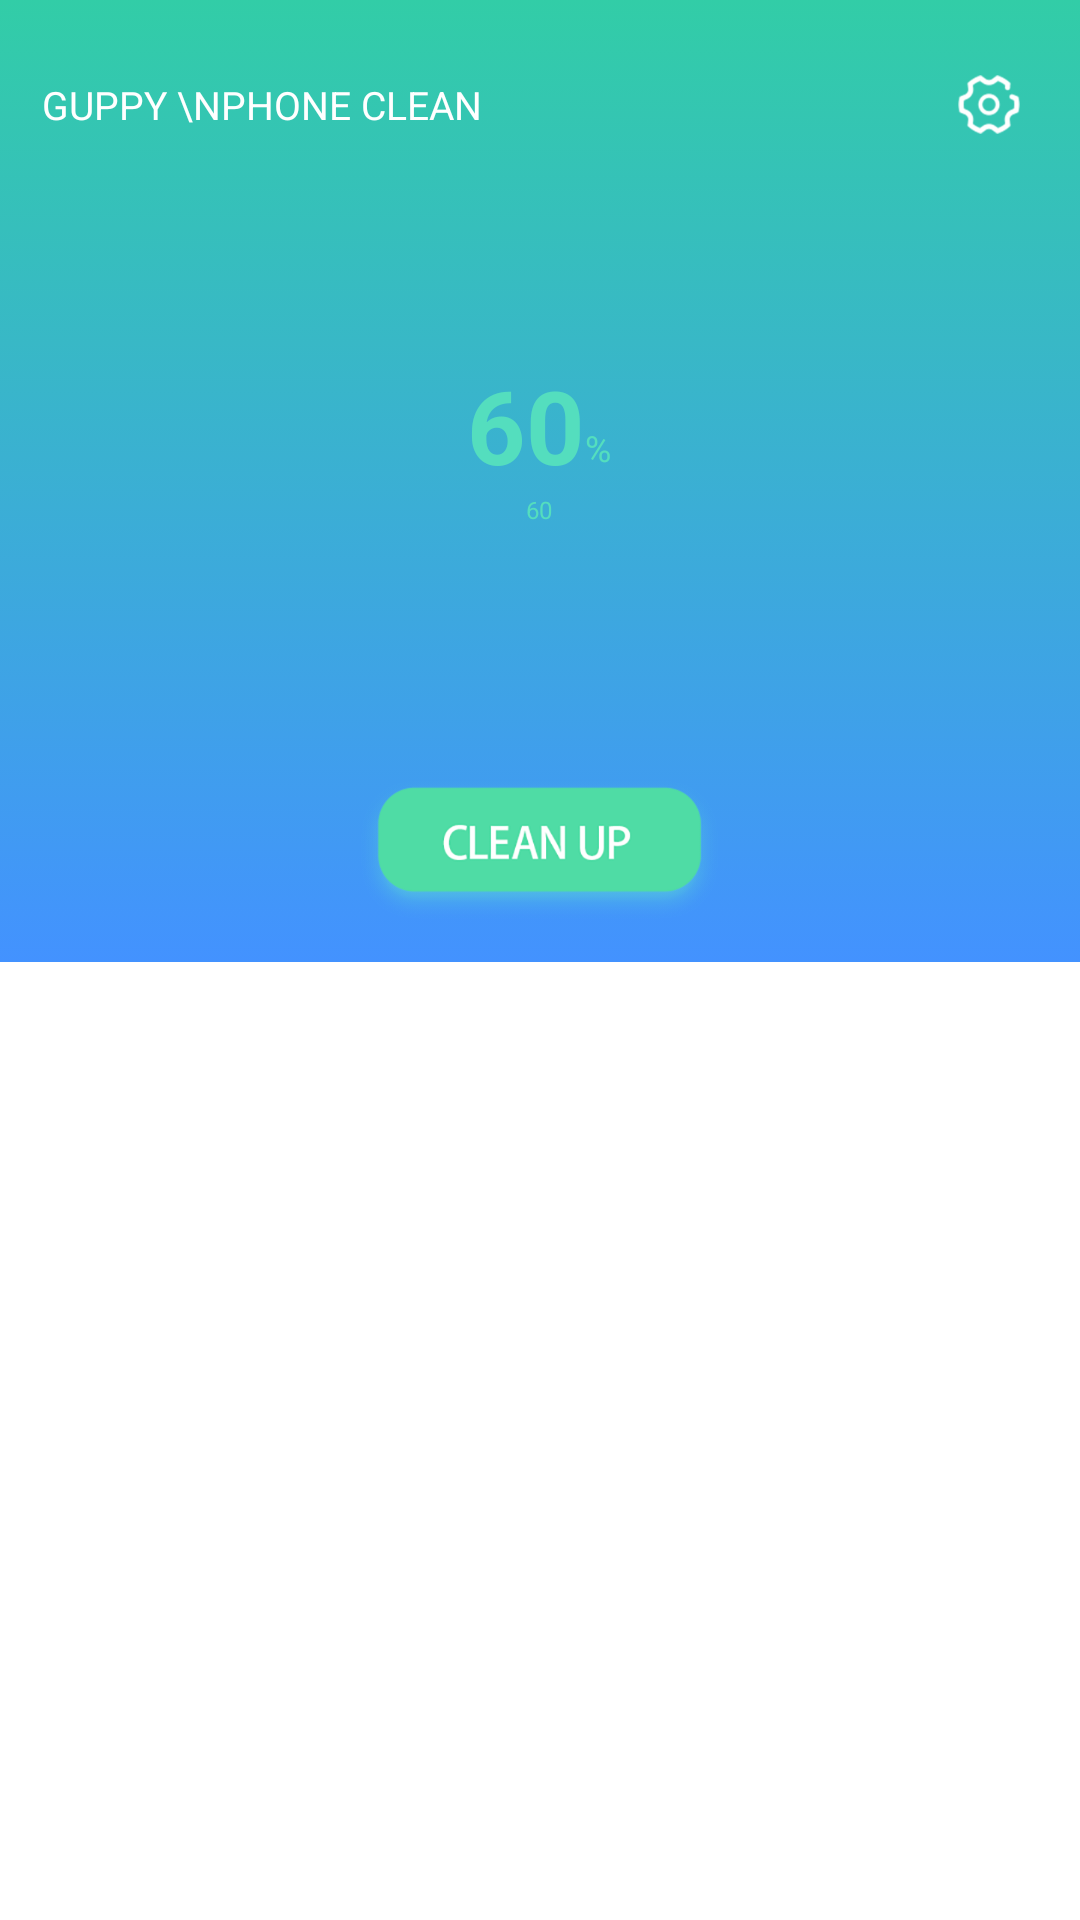

Locate icon controls on the screen. Image size 1080px×1920px, boxes as (x1, y1, x2, y2).
clear setting: (958, 75, 1020, 134)
